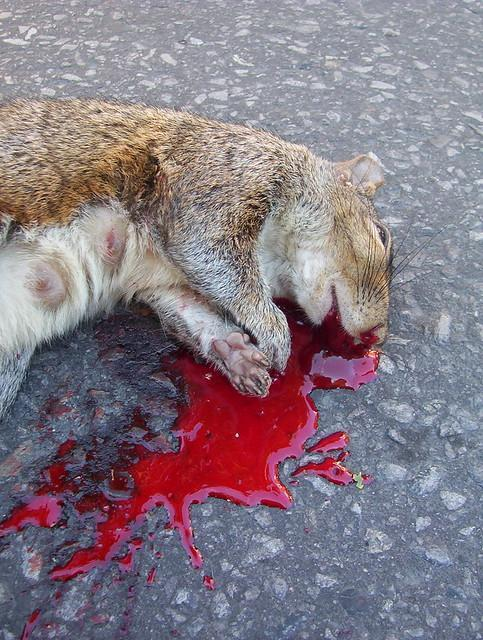Fire: (1, 309, 380, 640), (358, 325, 383, 348), (204, 577, 215, 590)
